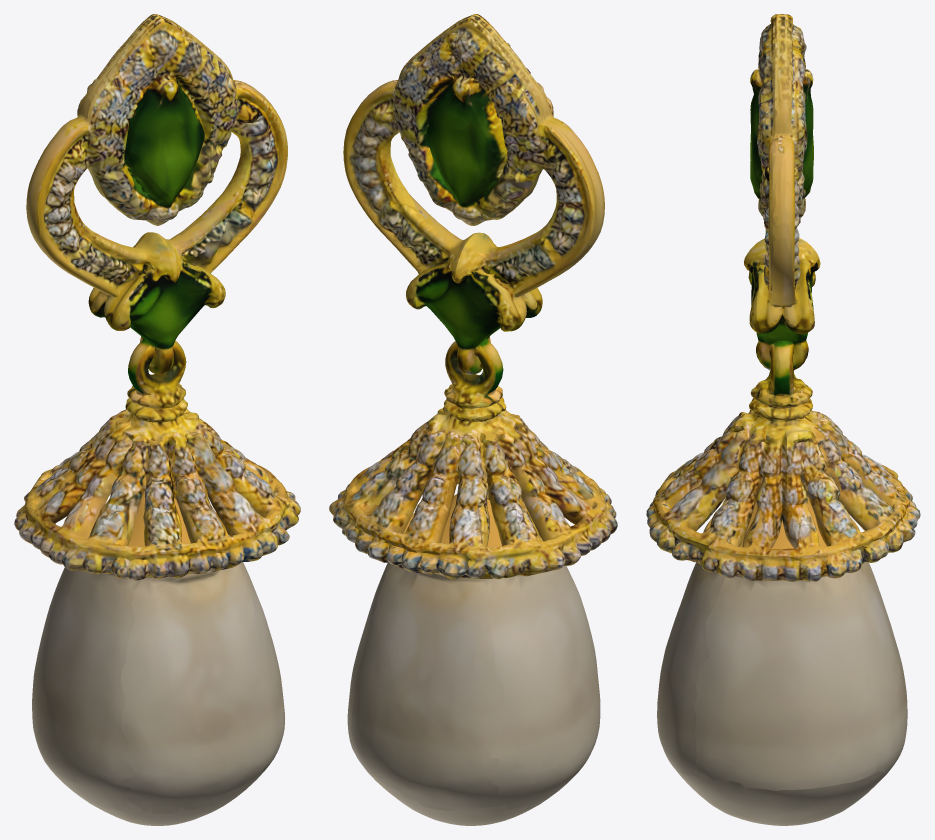
Rendered from jhumka_2.glb.
3 renders of one model, left to right at view 1: azimuth 30°, elevation 25°; view 2: azimuth 150°, elevation 25°; view 3: azimuth 270°, elevation 25°, orthographic.
Parts seen in each view (by area): view 1: jhumka_2; view 2: jhumka_2; view 3: jhumka_2.
Boxes of the visible parts, <box> form: jhumka_2: <box>14,14,300,825</box>; jhumka_2: <box>329,14,617,825</box>; jhumka_2: <box>646,14,920,825</box>.
Size of the model in its own units: 0.6648 by 1.99 by 0.6159.
1 material, 1 textured.
